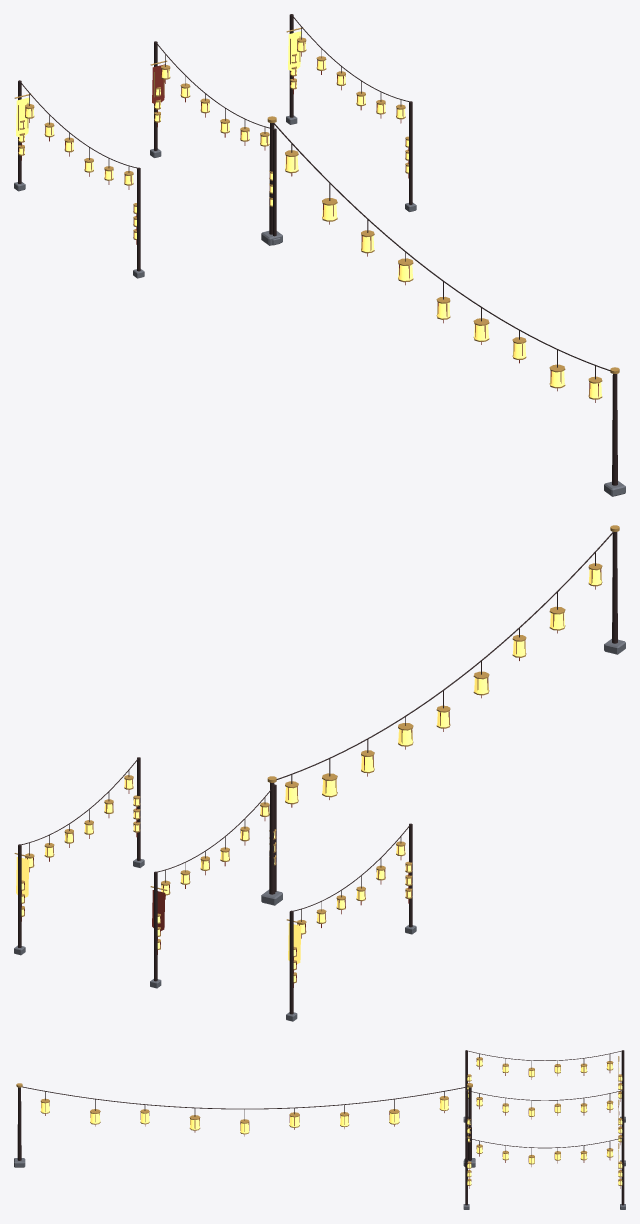
Rendered from model-lantern-array-s4.glb.
3 views of the same model, one above another, from view 1: azimuth 30°, elevation 25°; view 2: azimuth 150°, elevation 25°; view 3: azimuth 270°, elevation 25° (orthographic). The views are drawn at different scales.
Parts seen in each view (by area): view 1: model-lantern-array-s4; view 2: model-lantern-array-s4; view 3: model-lantern-array-s4.
Boxes of the visible parts, x1,y1,x2,y2 form: model-lantern-array-s4: (14,14,625,496); model-lantern-array-s4: (14,525,625,1021); model-lantern-array-s4: (14,1050,625,1209).
Bounding box in the file's own units: 12.72 × 5.2 × 35.6.
